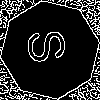S: (25, 25, 77, 66)
